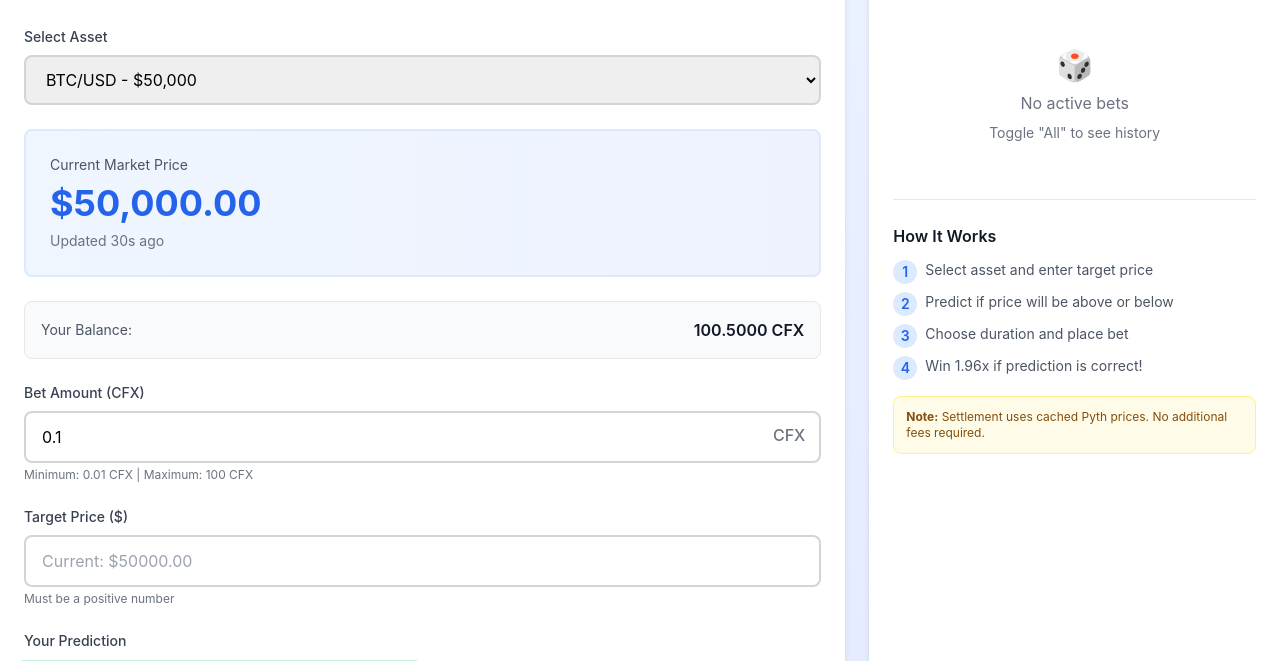
Scenario: BettingInterface Component › Wallet Connection › enables bet button when connected and target price is set
Type "55000" into the number field with placeholder "Current: $50000.00" at (423, 561), box left=24, top=535, right=821, bottom=587
(page scrolled)
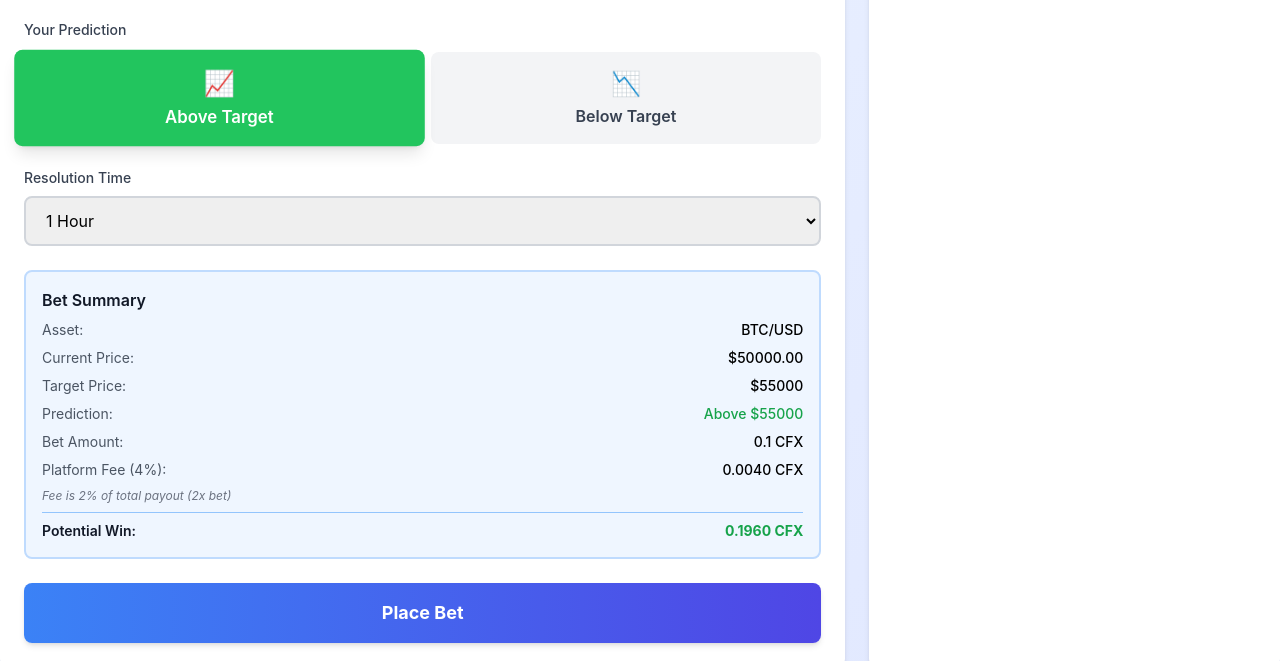
Expected: the button "Place Bet" is enabled, left=24, top=583, right=821, bottom=643
